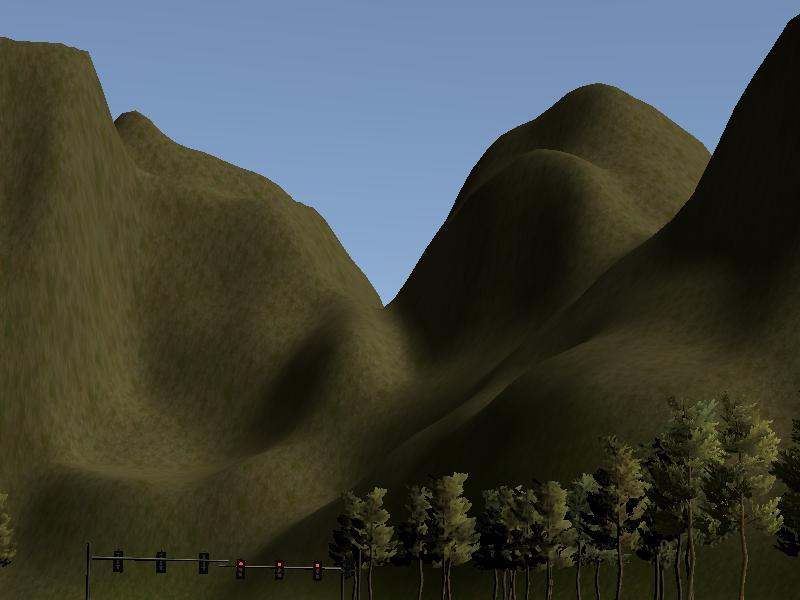Red: (273, 557, 285, 583), (234, 558, 245, 582), (312, 559, 323, 583)
